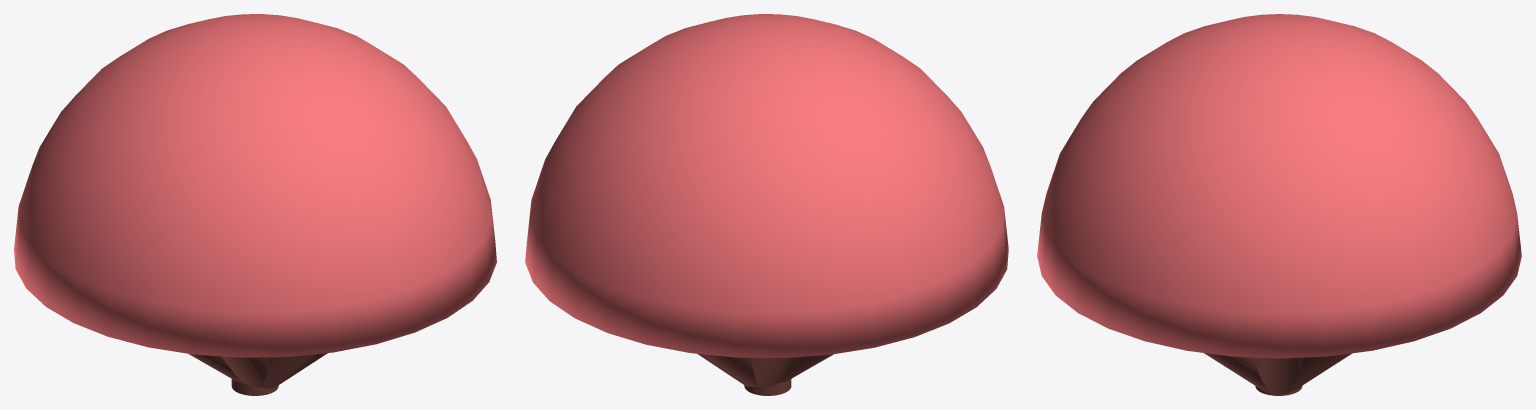
The model's file is Bush.glb.
3 views of the same model, side by side, from view 1: azimuth 30°, elevation 25°; view 2: azimuth 150°, elevation 25°; view 3: azimuth 270°, elevation 25° (orthographic).
Visible parts, largest first — view 1: Sphere.023, Cylinder.005; view 2: Sphere.023, Cylinder.005; view 3: Sphere.023, Cylinder.005.
Part boxes in pixels (bbox=[...]): Sphere.023: bbox=[14, 14, 496, 357]; Cylinder.005: bbox=[189, 353, 327, 395]; Sphere.023: bbox=[525, 14, 1008, 357]; Cylinder.005: bbox=[697, 353, 833, 395]; Sphere.023: bbox=[1037, 14, 1521, 358]; Cylinder.005: bbox=[1204, 353, 1351, 395].
Bounding box in the file's own units: 2 × 1.59 × 2.
